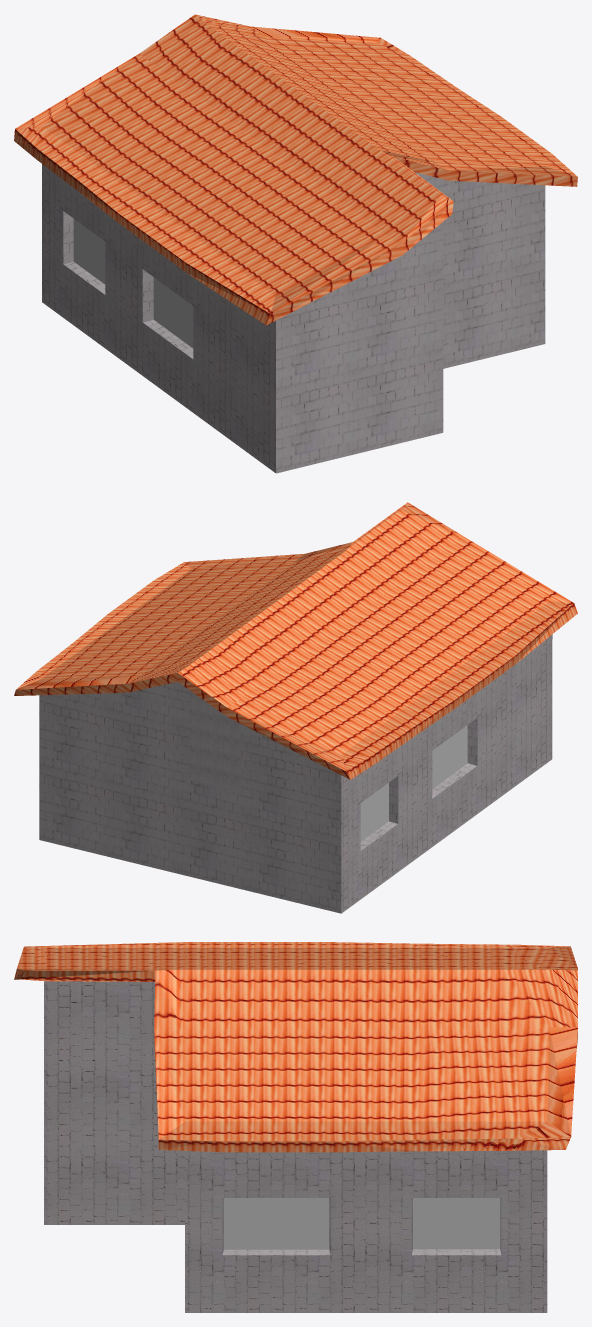
Rendered from Casa1.FBX.
The picture shows the model from 3 angles, top to bottom: view 1: azimuth 30°, elevation 25°; view 2: azimuth 150°, elevation 25°; view 3: azimuth 270°, elevation 25°; orthographic projection. The views are drawn at different scales.
Visible parts, largest first — view 1: CASA003; view 2: CASA003; view 3: CASA003.
Part boxes in pixels (<box>): CASA003: <box>14,14,577,473</box>; CASA003: <box>14,502,577,913</box>; CASA003: <box>14,942,577,1312</box>.
Bounding box in the file's own units: 404 × 238 × 477.
